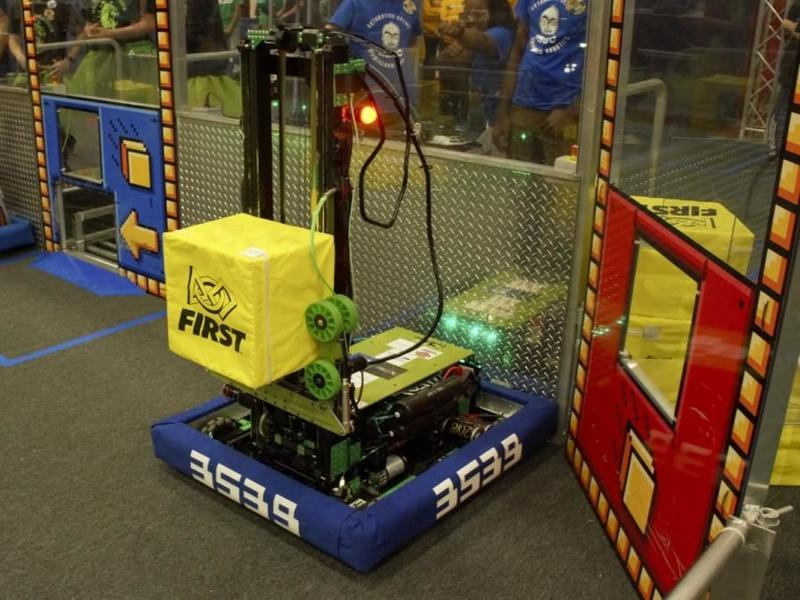robot: (159, 38, 553, 569)
